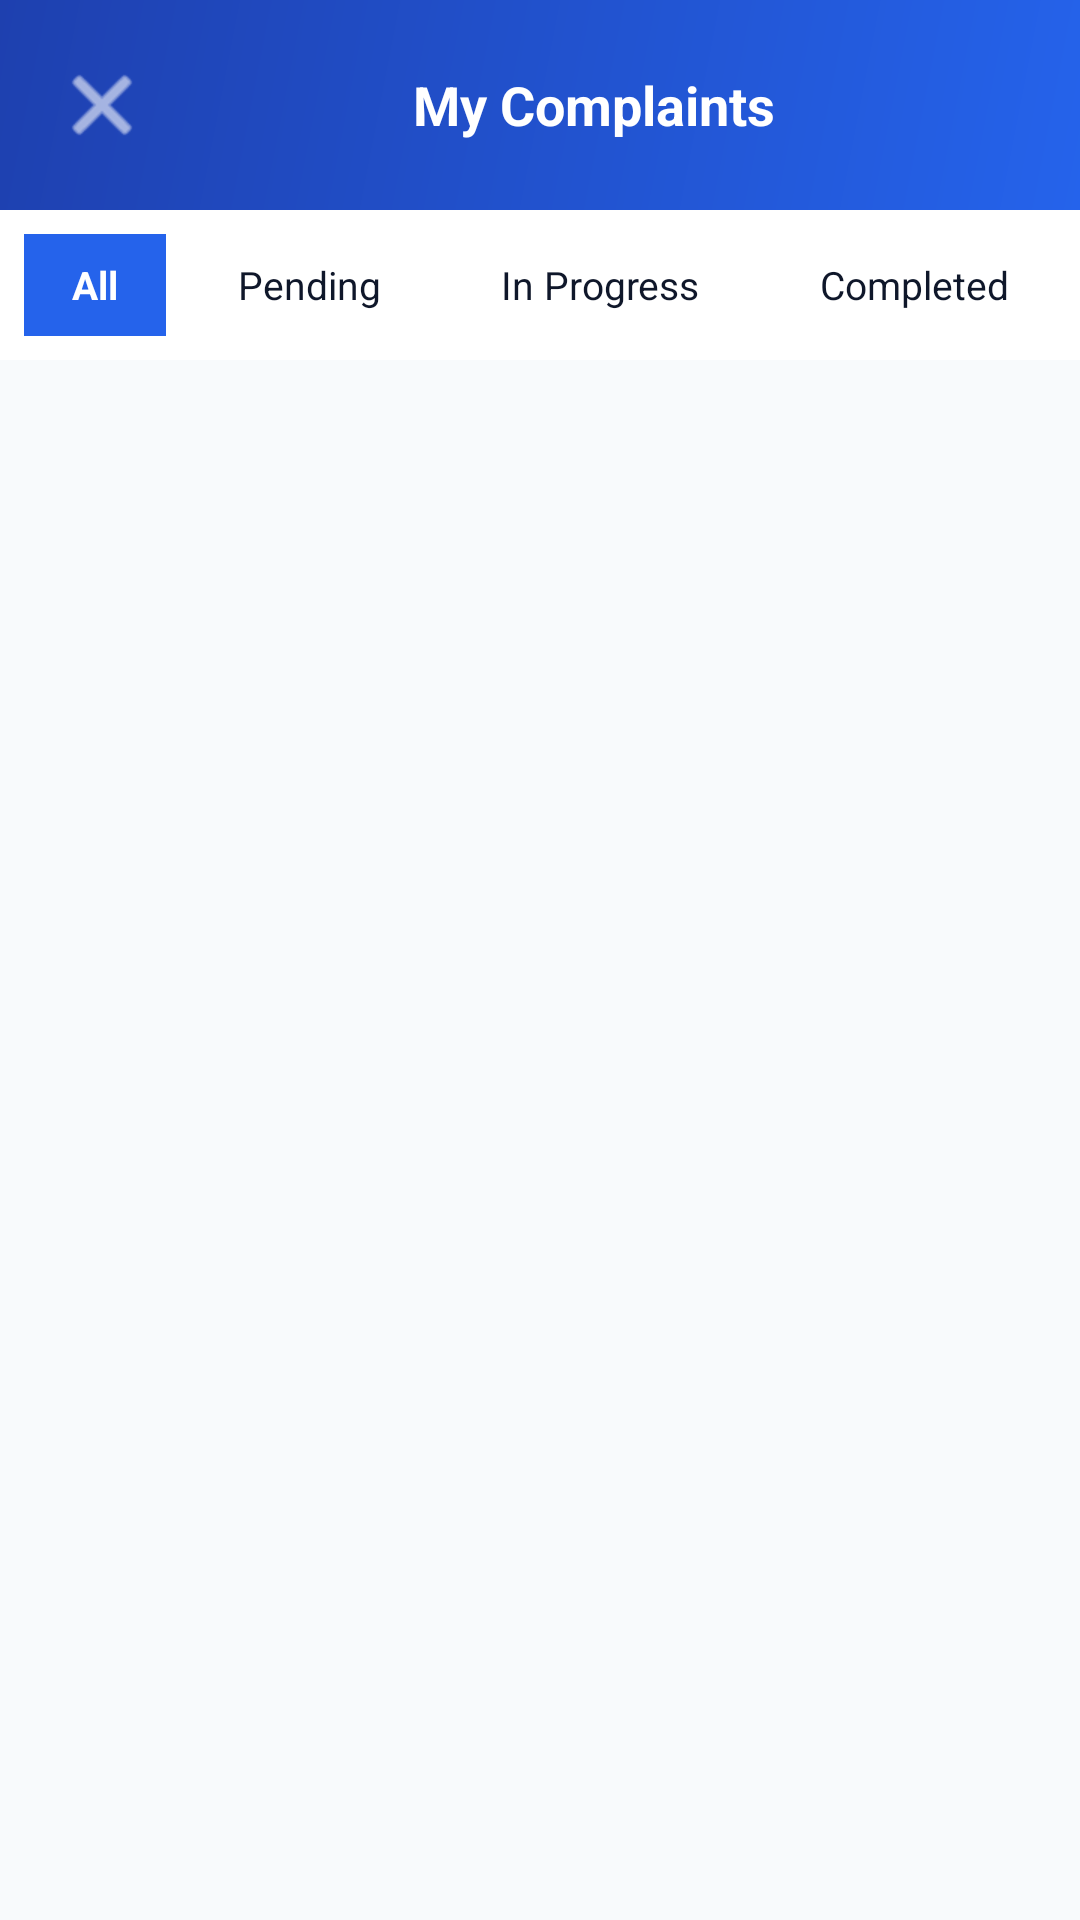

Named icons in this screenshot (1080x1920) and their bounding boxes, (x1, y1, x2, y2):
close clear cancel: (72, 75, 132, 135)
